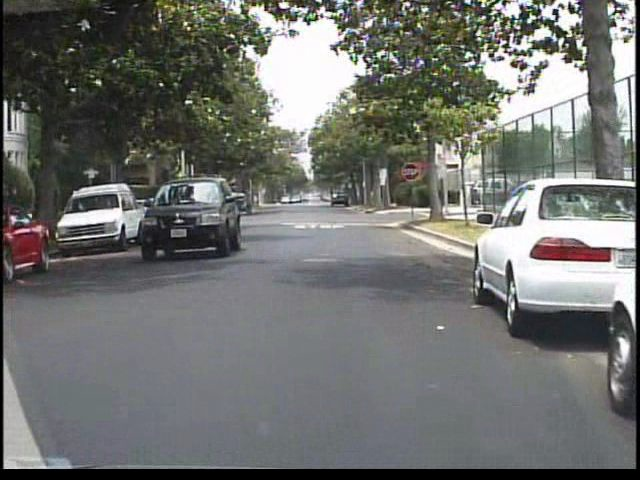person: (242, 183, 263, 225)
